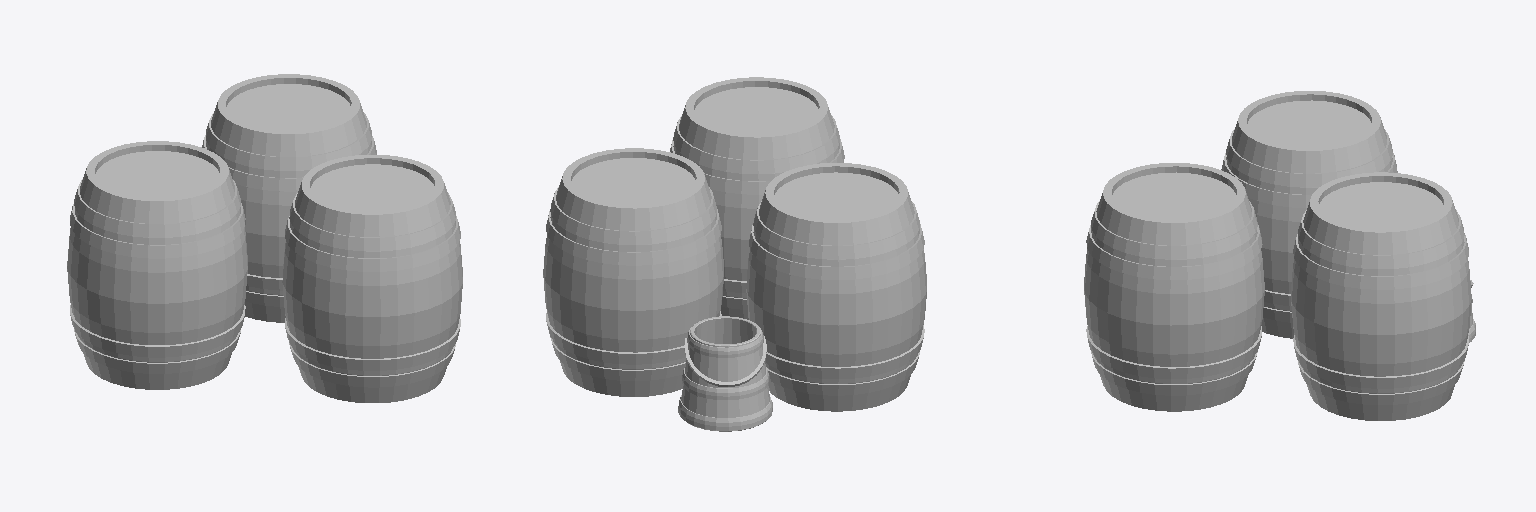
The model's file is Barrel.obj.
3 renders of one model, left to right at view 1: azimuth 30°, elevation 25°; view 2: azimuth 150°, elevation 25°; view 3: azimuth 270°, elevation 25°, orthographic.
Visible parts, largest first — view 1: Wooden_barrel_03, Wooden_barrel_01, Wooden_barrel_02; view 2: Wooden_barrel_03, Wooden_barrel_02, Wooden_barrel_01, Wooden_kadkam; view 3: Wooden_barrel_02, Wooden_barrel_01, Wooden_barrel_03.
Boxes of the visible parts, x1=… form: Wooden_barrel_03: x1=67, y1=141, x2=247, y2=389; Wooden_barrel_01: x1=282, y1=155, x2=462, y2=402; Wooden_barrel_02: x1=202, y1=74, x2=376, y2=322; Wooden_barrel_03: x1=746, y1=163, x2=926, y2=411; Wooden_barrel_02: x1=543, y1=148, x2=723, y2=396; Wooden_barrel_01: x1=670, y1=77, x2=844, y2=319; Wooden_kadkam: x1=678, y1=316, x2=772, y2=431; Wooden_barrel_02: x1=1291, y1=172, x2=1471, y2=420; Wooden_barrel_01: x1=1084, y1=163, x2=1264, y2=411; Wooden_barrel_03: x1=1221, y1=91, x2=1397, y2=338.
Bounding box in the file's own units: 24.92 × 13.86 × 26.14.